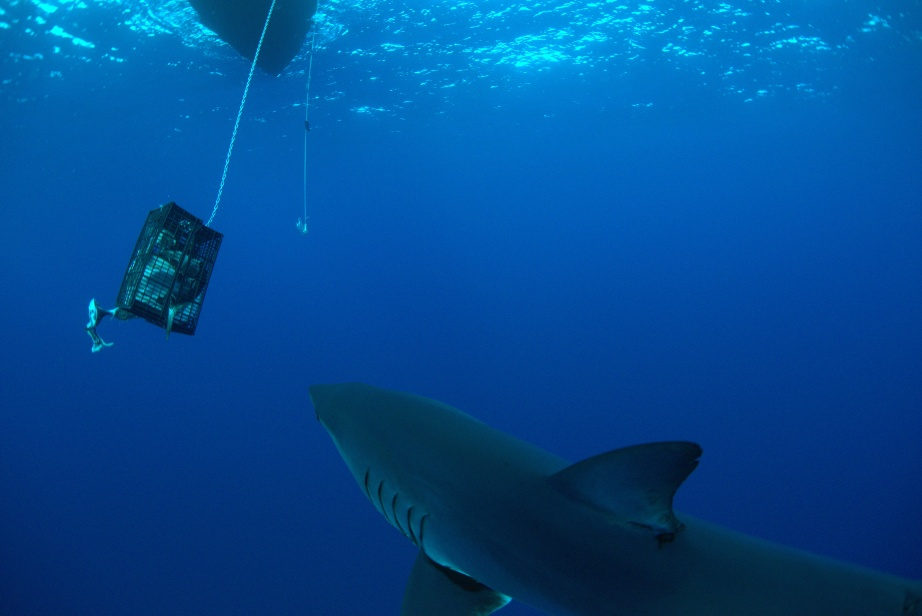Mako: (284, 363, 922, 614)
